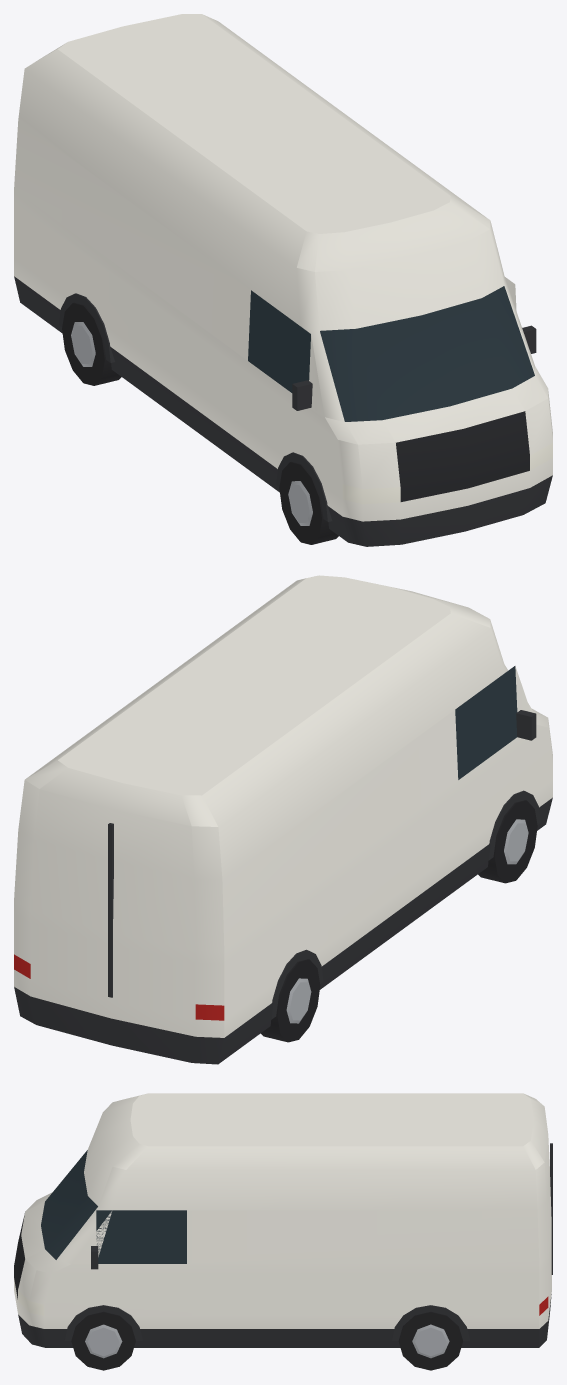
The model's file is sf_delivery_van.glb.
The picture shows the model from 3 angles, top to bottom: view 1: azimuth 30°, elevation 25°; view 2: azimuth 150°, elevation 25°; view 3: azimuth 270°, elevation 25°; orthographic projection. The views are drawn at different scales.
Visible parts, largest first — view 1: sf_delivery_van; view 2: sf_delivery_van; view 3: sf_delivery_van.
Part boxes in pixels (x1=…): sf_delivery_van: x1=14, y1=14, x2=552, y2=546; sf_delivery_van: x1=14, y1=575, x2=552, y2=1064; sf_delivery_van: x1=14, y1=1093, x2=552, y2=1370.
Bounding box in the file's own units: 2.32 × 2.6 × 6.01.
1 material, 1 textured.
